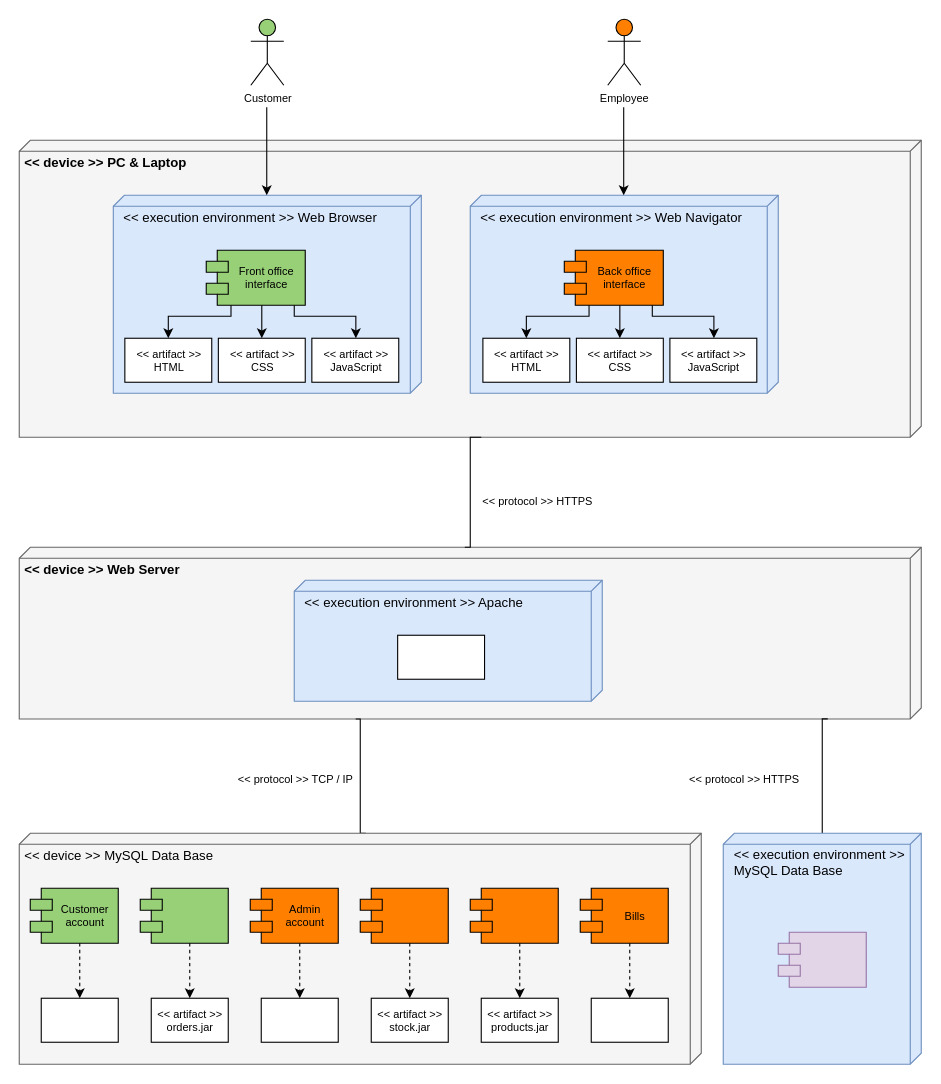
Image size: 941x1084. Some labels were removed from this diagram. The shapes that lost their labels are listed below. From the top down, each one's centre as x and y in pixels, then its label:
pixel 441 656: << artifact >> PHP
pixel 183 915: Orders
pixel 403 915: Stock
pixel 513 915: Products
pixel 821 959: Payment interface
pixel 79 1019: << artifact >> customer.jar
pixel 299 1019: << artifact >> admin.jar
pixel 629 1019: << artifact >> bills.jar
